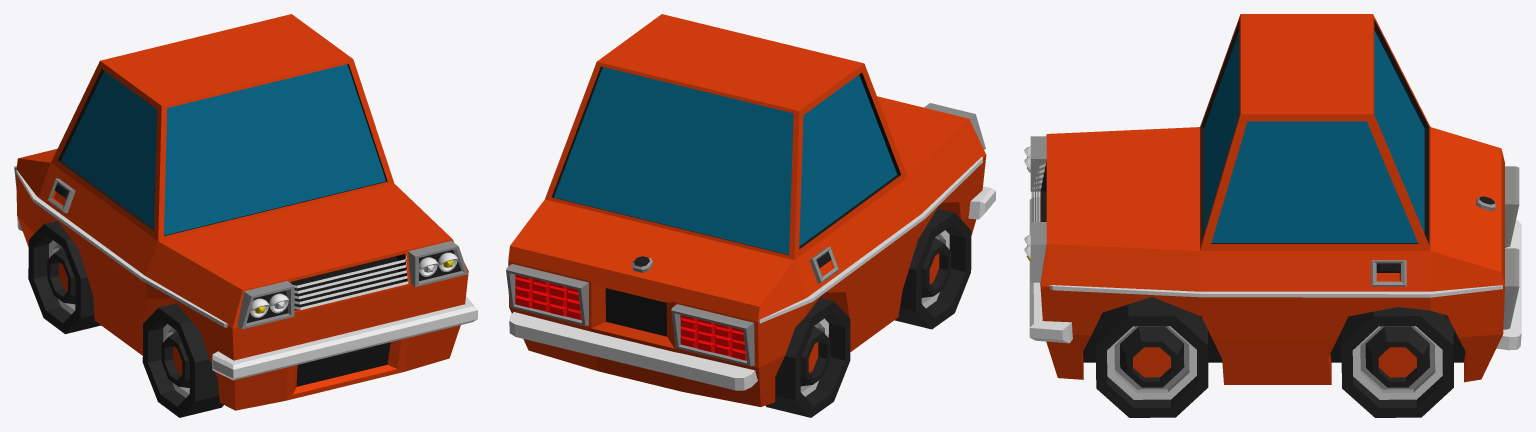
The model's file is Car_variant_1.fbx.
The picture shows the model from 3 angles, left to right: view 1: azimuth 30°, elevation 25°; view 2: azimuth 150°, elevation 25°; view 3: azimuth 270°, elevation 25°; orthographic projection. The views are drawn at different scales.
Parts seen in each view (by area): view 1: Cube, Cylinder, Cube.003, Plane, Cube.002, Cube.001; view 2: Cube, Cylinder, Cube.004, Cube.006, Cube.002, Cube.003, Cube.001; view 3: Cube, Cylinder, Cube.003, Cube.002, Cube.004, Cube.006, Cube.001, Plane.
Part boxes in pixels (x1,y1,x2,y2): Cube: [16, 14, 468, 410]; Cylinder: [28, 220, 223, 417]; Cube.003: [212, 241, 477, 380]; Plane: [293, 256, 408, 309]; Cube.002: [16, 170, 227, 327]; Cube.001: [47, 178, 75, 213]; Cube: [508, 14, 986, 406]; Cylinder: [765, 208, 971, 417]; Cube.004: [506, 264, 754, 366]; Cube.006: [509, 312, 757, 390]; Cube.002: [759, 156, 982, 323]; Cube.003: [924, 103, 995, 219]; Cube.001: [809, 246, 838, 283]; Cube: [1040, 14, 1504, 384]; Cylinder: [1096, 297, 1453, 417]; Cube.003: [1024, 136, 1072, 343]; Cube.002: [1049, 285, 1502, 297]; Cube.004: [1503, 166, 1519, 329]; Cube.006: [1496, 219, 1521, 350]; Cube.001: [1371, 260, 1406, 286]; Plane: [1031, 163, 1045, 221].
Bounding box in the file's own units: 64.65 × 60.66 × 95.71.
